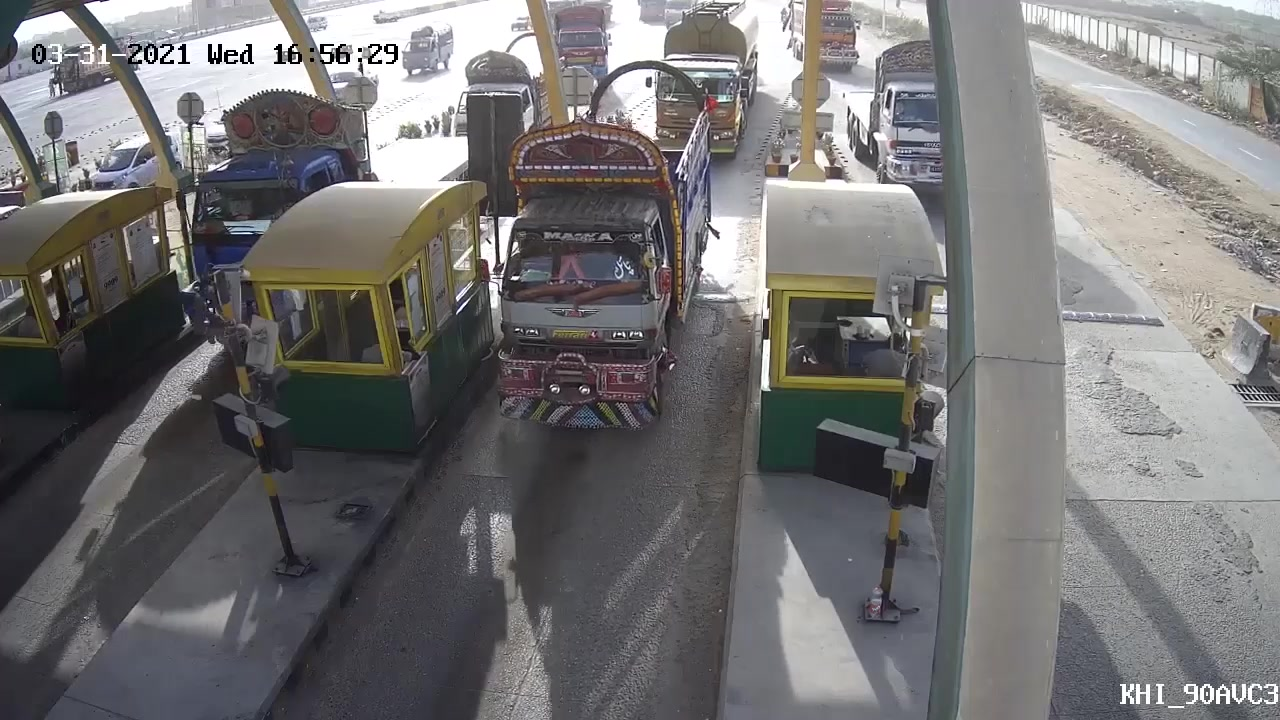F5: (479, 66, 724, 448)
